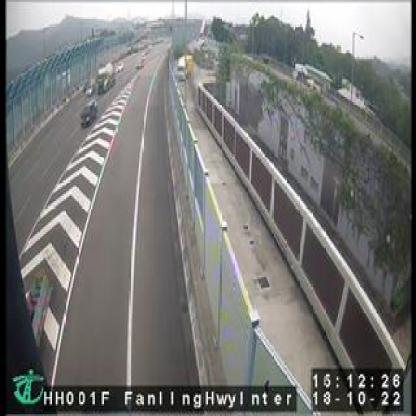Truck: (96, 62, 118, 96), (80, 100, 98, 128)
